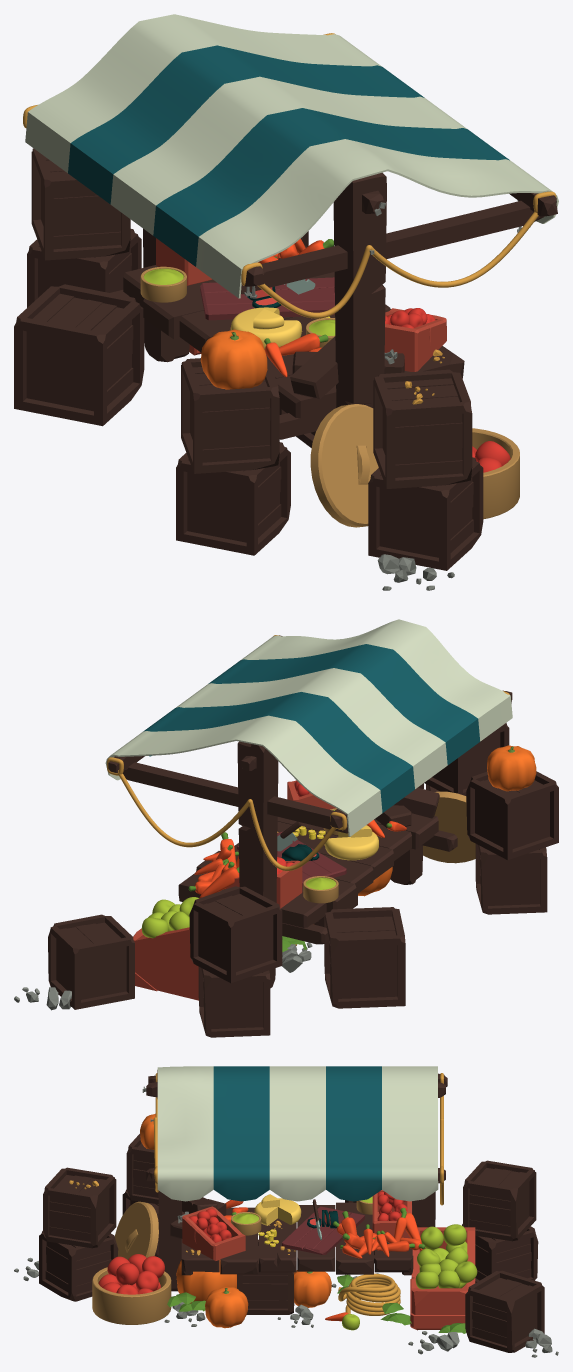
Rendered from streetmarket.fbx.
3 views of the same model, one above another, from view 1: azimuth 30°, elevation 25°; view 2: azimuth 150°, elevation 25°; view 3: azimuth 270°, elevation 25° (orthographic). The views are drawn at different scales.
Parts seen in each view (by area): view 1: Plane.001, Cube.048, Cube.047, Cylinder, Cube, Cube.051, Cube.052, Cube.046, Cube.007, Cube.053, Cube.003, Cube.016 (+10 smaller); view 2: Plane.001, Cube.048, Cube.053, Cube.007, Cube.049, Cube.052, Cube.001, Cube.051, Cube.016, Cube.023, Cube.003, Cylinder (+11 smaller); view 3: Plane.001, Cube.007, Cylinder, Cube.049, Cube.047, Cube.053, Cube.046, Cube.023, Cube.016, Cube.045, NurbsPath, Cube.070 (+21 smaller).
Boxes of the visible parts, x1,y1,x2,y2 form: Plane.001: (25,14,558,298); Cube.048: (14,284,144,426); Cube.047: (373,369,472,488); Cylinder: (140,266,519,527); Cube: (333,172,386,407); Cube.051: (176,442,290,555); Cube.052: (181,357,279,473); Cube.046: (368,457,483,570); Cube.007: (123,245,464,422); Cube.053: (31,148,130,260); Cube.003: (241,200,544,294); Cube.016: (27,229,141,307); Plane.001: (105,619,512,836); Cube.048: (324,907,405,1008); Cube.053: (189,886,282,983); Cube.007: (178,787,439,927); Cube.049: (48,914,134,1009); Cube.052: (466,771,558,860); Cube.001: (237,741,278,988); Cube.051: (475,844,547,914); Cube.016: (198,967,270,1037); Cube.023: (133,927,198,1000); Cube.003: (123,762,348,833); Cylinder: (303,791,475,903); Plane.001: (157,1066,438,1201); Cube.007: (170,1197,412,1274); Cylinder: (92,1200,372,1324); Cube.049: (465,1270,544,1352); Cube.047: (43,1167,116,1248); Cube.053: (463,1160,536,1241); Cube.046: (39,1231,118,1301); Cube.023: (410,1227,475,1330); Cube.016: (462,1224,538,1282); Cube.045: (237,1239,294,1314); NurbsPath: (338,1273,400,1315); Cube.070: (182,1206,245,1260).
Size of the model in its own units: 1093 by 855 by 1918.
